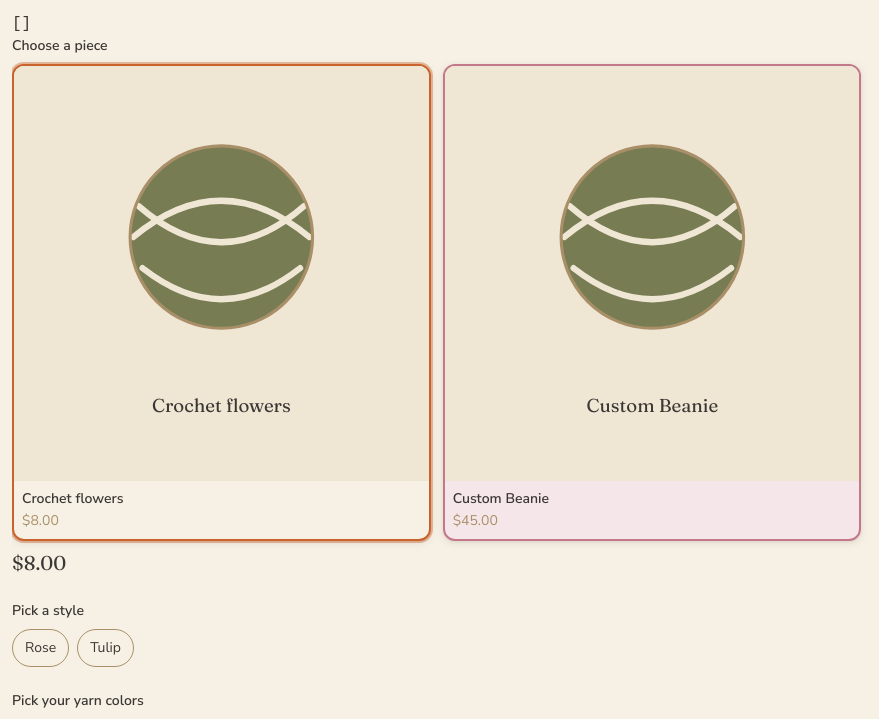
Test: CustomOrderForm — products sold in styles › the displayed price follows the chosen style, and the first one until then
expect the text with test id "custom-price" reads "$8.00": met, box [12,550,66,575]
Click the button "Tulip" at coordinates (106, 648), box [77,629,134,667]
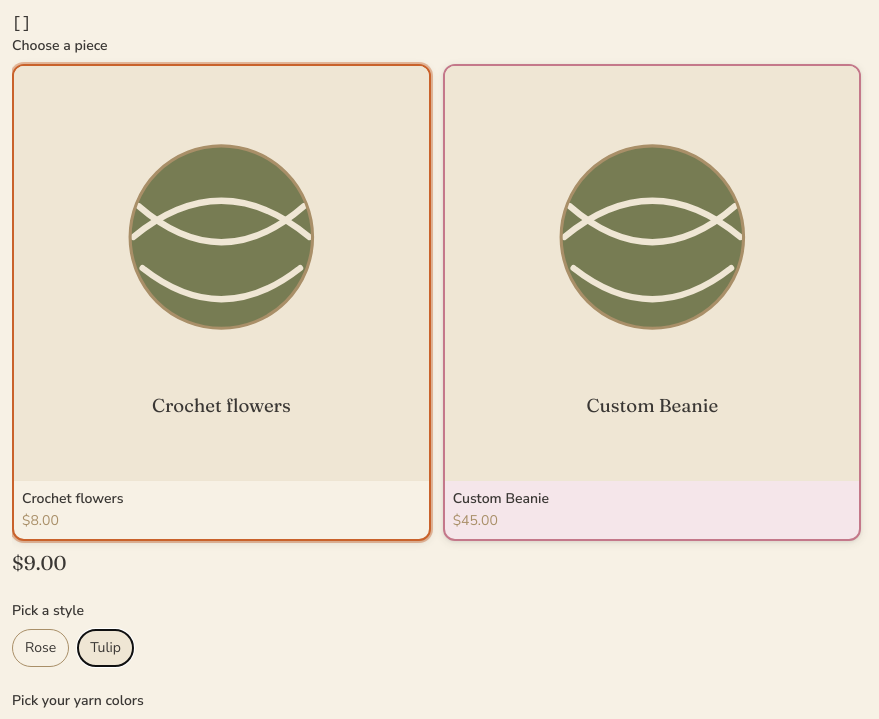
expect the text with test id "custom-price" reads "$9.00": met, box [12,550,66,575]
Click the button "Rose" at coordinates (41, 648), box [12,629,69,667]
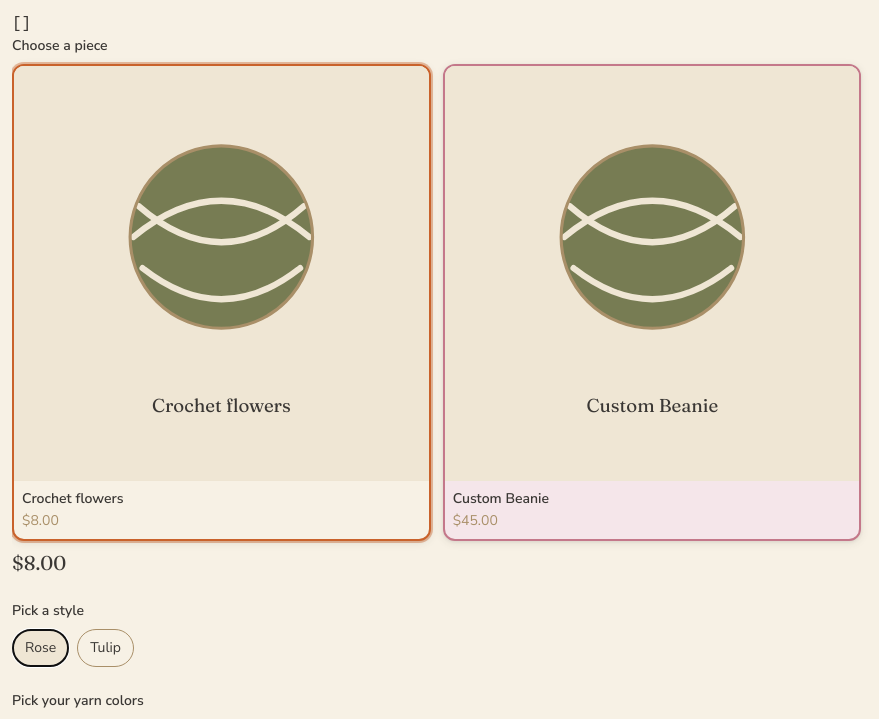
expect the text with test id "custom-price" reads "$8.00": met, box [12,550,66,575]
